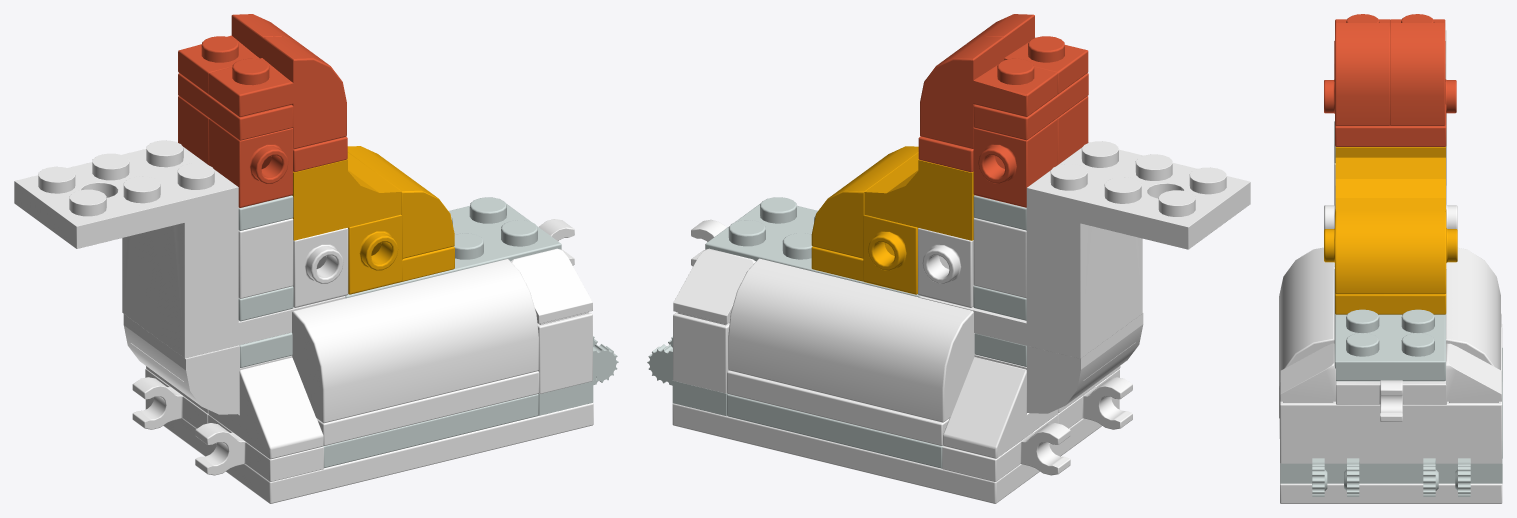
The model's file is Passo 24.fbx.
3 views of the same model, side by side, from view 1: azimuth 30°, elevation 25°; view 2: azimuth 150°, elevation 25°; view 3: azimuth 270°, elevation 25° (orthographic). The views are drawn at different scales.
Parts seen in each view (by area): view 1: Bracket_5x2.005, Brick_curved_2x4__1_.008, Plate_4x6.014, Brick_cuved_1x2x1__1_, Slope_2x1_2.010, Brick_curved_1x2__1_.002, Plate_2x4.013, Slope_curved_2x2.007, Plate_1x4__1_.012, Brick_special_1x1_1.003, Plate_2x4__1_.013, Brick_curved_2x1.001 (+16 smaller); view 2: Bracket_5x2.005, Brick_curved_2x4.008, Brick_cuved_1x2x1, Plate_4x6.014, Slope_2x1_2__1_.010, Brick_curved_1x2.002, Plate_2x4.013, Slope_curved_2x2.007, Plate_1x4.012, Brick_special_1x1__1__1.003, Plate_2x4_1.006, Brick_curved_2x1.001 (+16 smaller); view 3: Brick_1x4.012, Brick_curved_2x1.001, Plate_2x4.013, Brick_cuved_1x2x1__1_, Brick_cuved_1x2x1, Brick_curved_2x4__1_.008, Brick_curved_2x4.008, Plate_4x6.014, Brick_curved_1x2__1_.002, Brick_curved_1x2.002, Plate_special_1x2_2.013, Hinge_plate__1_.014 (+11 smaller).
Boxes of the visible parts, box(x1,y1,x2,y2) form: Bracket_5x2.005: box(14, 140, 345, 358); Brick_curved_2x4__1_.008: box(292, 259, 538, 423); Plate_4x6.014: box(145, 397, 593, 503); Brick_cuved_1x2x1__1_: box(208, 36, 346, 148); Slope_2x1_2.010: box(208, 357, 323, 459); Brick_curved_1x2__1_.002: box(292, 159, 401, 240); Plate_2x4.013: box(345, 197, 561, 298); Slope_curved_2x2.007: box(123, 314, 292, 414); Plate_1x4__1_.012: box(317, 371, 539, 445); Brick_special_1x1_1.003: box(209, 118, 292, 207); Plate_2x4__1_.013: box(323, 394, 538, 468); Brick_curved_2x1.001: box(347, 146, 454, 258); Bracket_5x2.005: box(919, 141, 1250, 358); Brick_curved_2x4.008: box(728, 258, 974, 422); Brick_cuved_1x2x1: box(920, 36, 1057, 148); Plate_4x6.014: box(672, 397, 1119, 503); Slope_2x1_2__1_.010: box(943, 357, 1057, 458); Brick_curved_1x2.002: box(864, 159, 974, 240); Plate_2x4.013: box(705, 197, 920, 297); Slope_curved_2x2.007: box(974, 313, 1143, 413); Plate_1x4.012: box(727, 370, 949, 445); Brick_special_1x1__1__1.003: box(973, 118, 1057, 207); Plate_2x4_1.006: box(727, 394, 943, 468); Brick_curved_2x1.001: box(811, 146, 918, 258); Brick_1x4.012: box(1280, 382, 1502, 463); Brick_curved_2x1.001: box(1335, 211, 1446, 294); Plate_2x4.013: box(1334, 269, 1445, 381); Brick_cuved_1x2x1__1_: box(1335, 14, 1390, 125); Brick_cuved_1x2x1: box(1390, 14, 1445, 125); Brick_curved_2x4__1_.008: box(1279, 247, 1334, 418); Brick_curved_2x4.008: box(1446, 248, 1500, 369); Plate_4x6.014: box(1280, 464, 1502, 503); Brick_curved_1x2__1_.002: box(1335, 147, 1391, 211); Brick_curved_1x2.002: box(1390, 146, 1445, 211); Plate_special_1x2_2.013: box(1336, 361, 1446, 421); Hinge_plate__1_.014: box(1391, 440, 1502, 496).
Bounding box in the file's own units: 0.7826 × 0.5784 × 0.3217.
